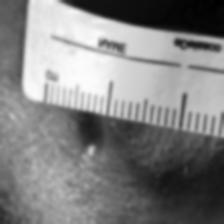Potentially Malignant Skin Tumors: (76, 119, 108, 157)
